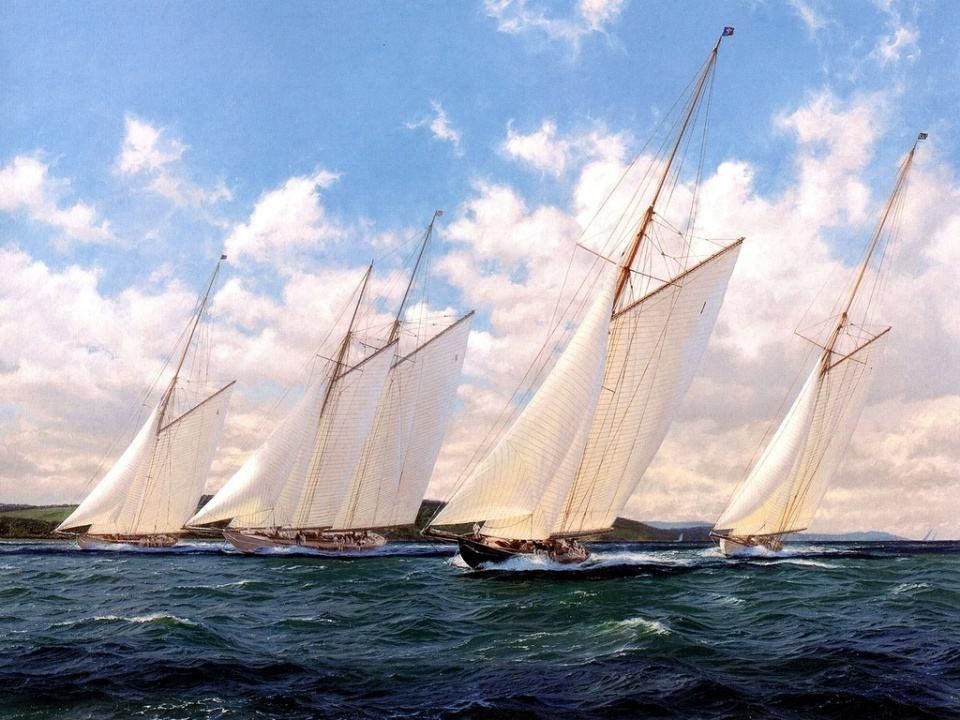fanchuan: (425, 22, 744, 583), (183, 206, 488, 562), (712, 127, 948, 564), (65, 246, 246, 560)
